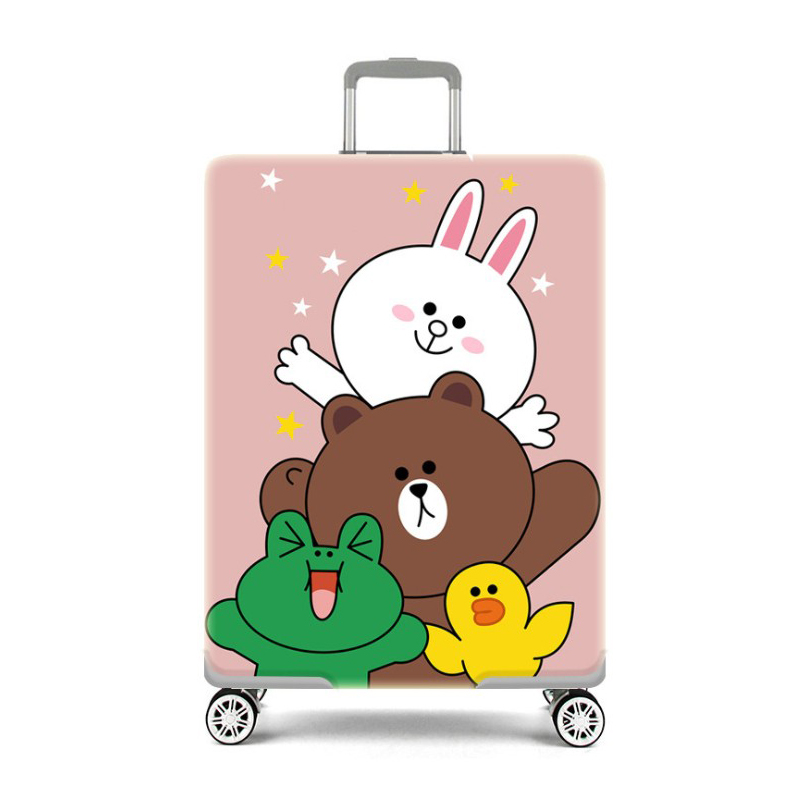box: (202, 153, 606, 690)
wheel: (549, 689, 605, 748), (206, 689, 258, 745)
